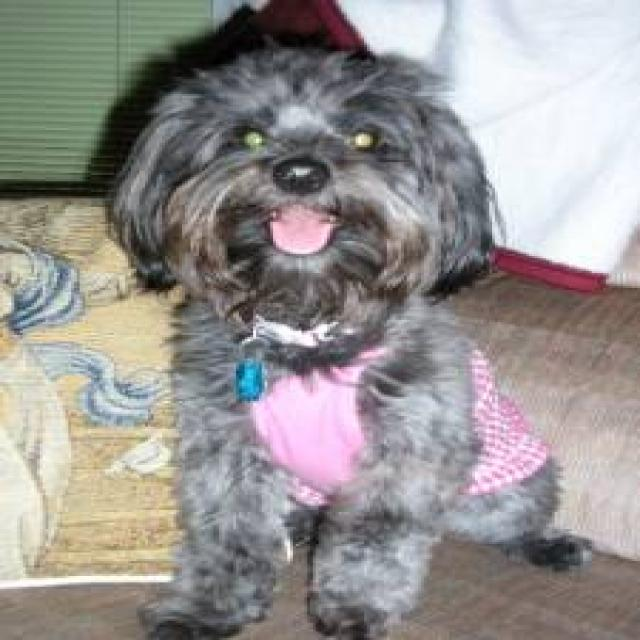dog-yorkshire_terrier: (102, 45, 609, 636)
